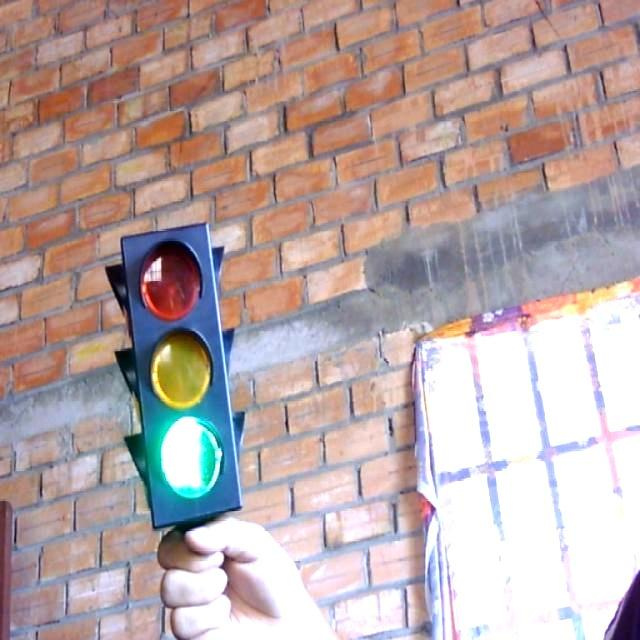Green: (111, 218, 256, 526)
